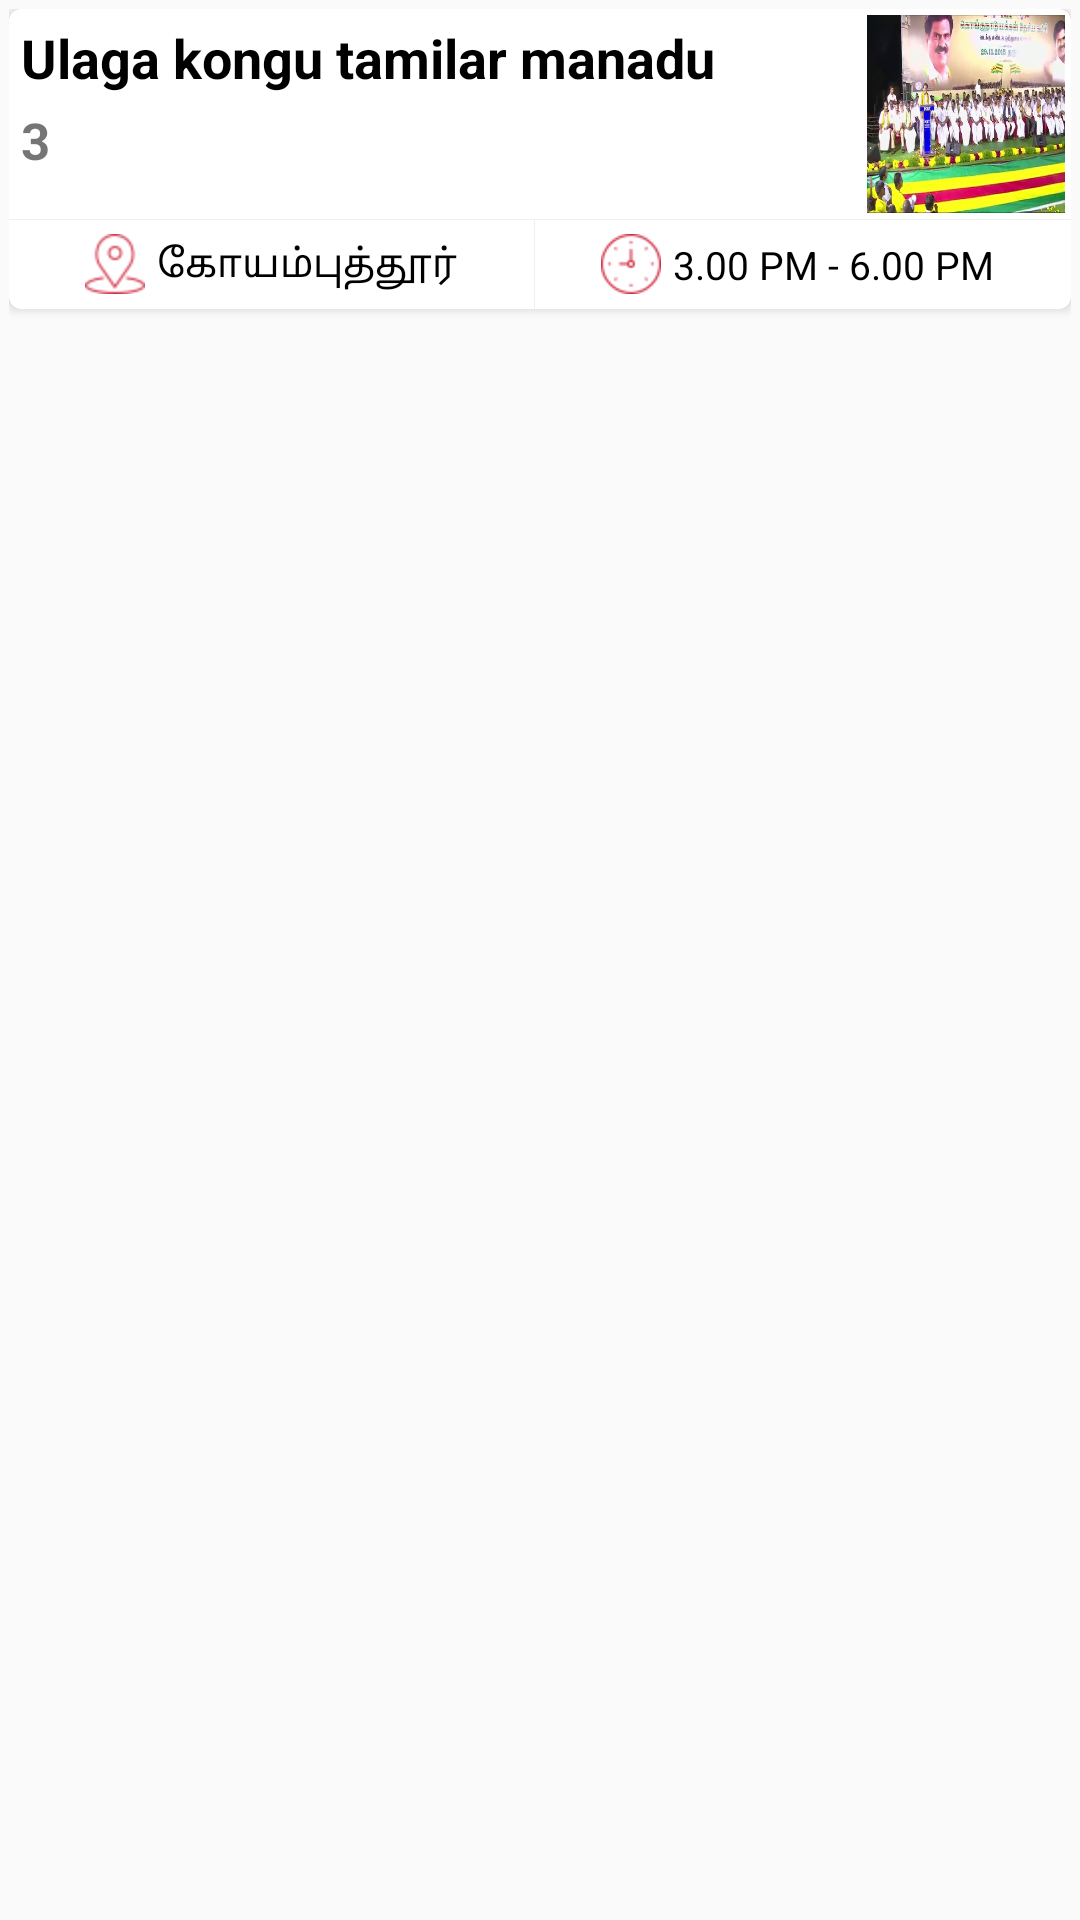

Screen size 1080w x 1920h. Icon name, then its center in pixels as [x,y]:
clock: [631,264]
